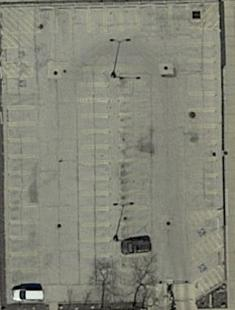parkingspot: (3, 75, 41, 305), (77, 69, 114, 289), (116, 69, 152, 289), (185, 27, 219, 213), (38, 3, 189, 34), (189, 245, 223, 286), (188, 211, 220, 251), (0, 45, 33, 64)
